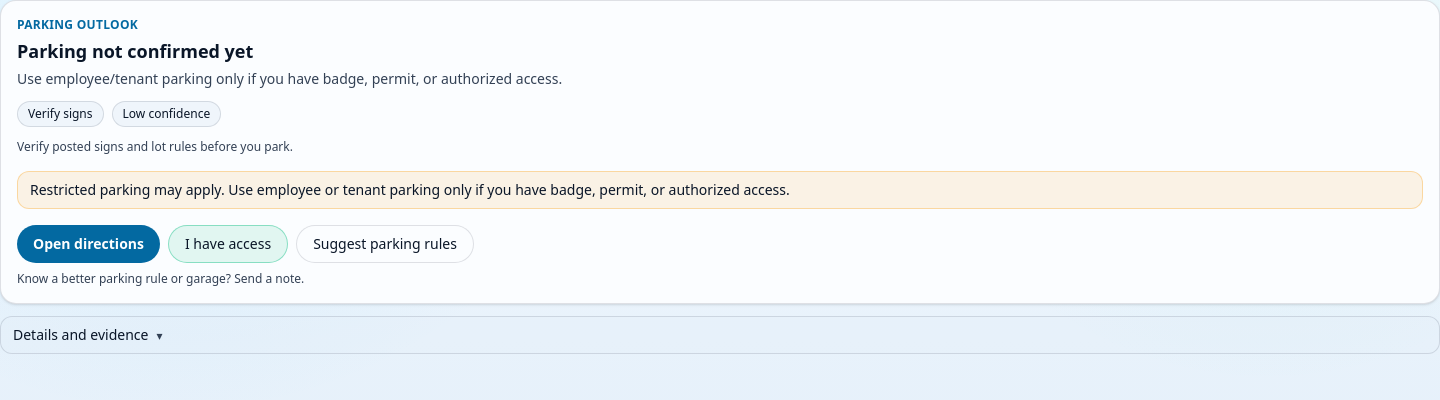
it: DestinationParkingSummary › "I have access" changes local state only
Click the button "I have access": (228, 244) [168,225,288,263]
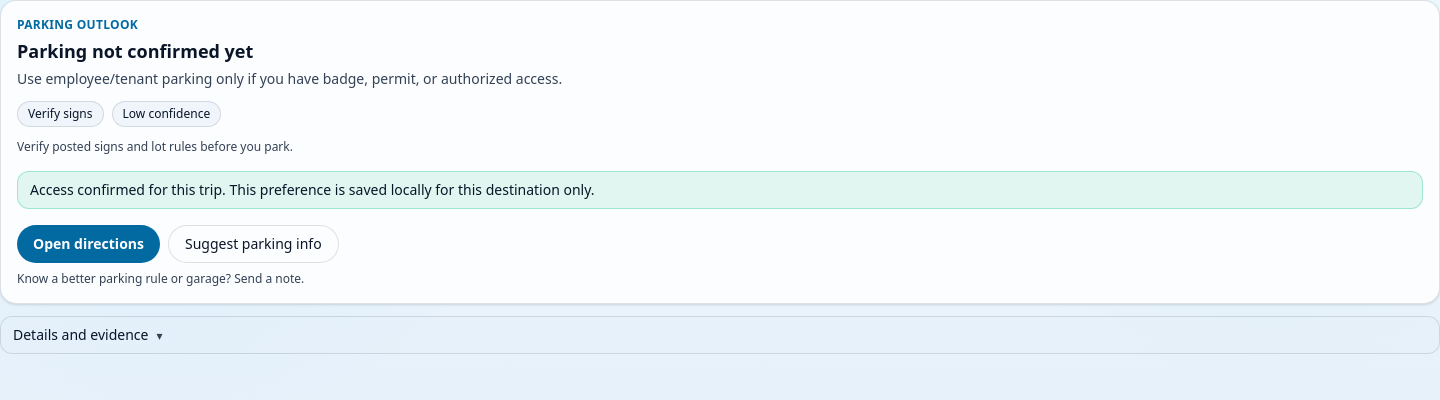
Now the text "Access confirmed for this trip" is shown, box [30,180,595,199]
